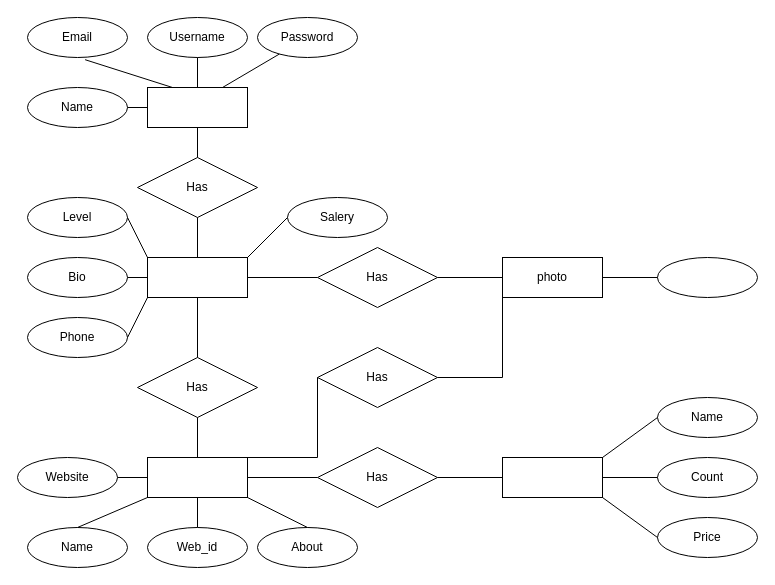
This 775x585 diagram has some shape labels left out. The box of each missing label's shape, as (x1, y1, x2, y2) in pixels:
Company: (146, 456, 248, 498)
Image: (656, 256, 758, 298)
Products: (502, 456, 602, 498)
Profile: (146, 256, 248, 298)
User: (146, 86, 248, 128)
